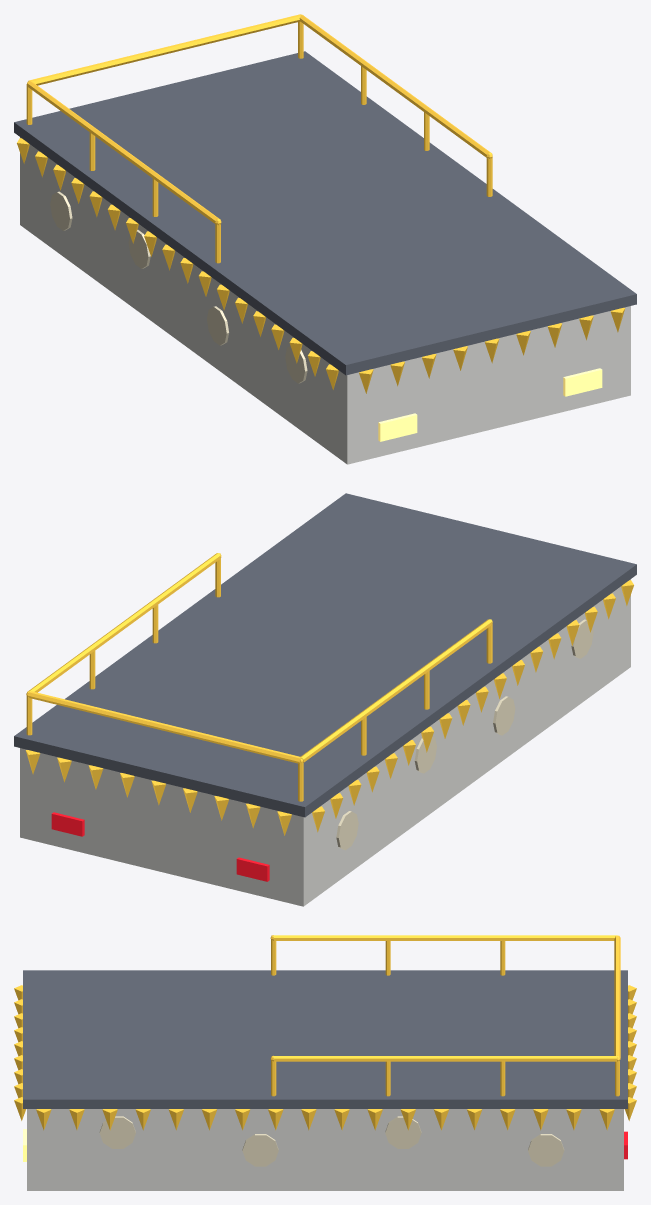
File: parade_float.glb
3 views of the same model, one above another, from view 1: azimuth 30°, elevation 25°; view 2: azimuth 150°, elevation 25°; view 3: azimuth 270°, elevation 25° (orthographic). The views are drawn at different scales.
Parts seen in each view (by area): view 1: deck_car_grey, paint_float_paint, rail_gold, fringe_gold, body_float_dot, lights_lamp; view 2: deck_car_grey, paint_float_paint, rail_gold, fringe_gold, body_float_dot, lights_tail; view 3: deck_car_grey, paint_float_paint, rail_gold, fringe_gold, body_float_dot.
Part boxes in pixels (left/top/right/bottom): deck_car_grey: left=14, top=51, right=636, bottom=375; paint_float_paint: left=20, top=137, right=630, bottom=464; rail_gold: left=26, top=14, right=492, bottom=263; fringe_gold: left=17, top=138, right=625, bottom=393; body_float_dot: left=50, top=191, right=307, bottom=383; lights_lamp: left=378, top=368, right=602, bottom=441; deck_car_grey: left=14, top=493, right=636, bottom=817; paint_float_paint: left=20, top=579, right=630, bottom=906; rail_gold: left=26, top=553, right=492, bottom=801; fringe_gold: left=25, top=580, right=633, bottom=835; body_float_dot: left=336, top=619, right=593, bottom=850; lights_tail: left=51, top=812, right=269, bottom=881; deck_car_grey: left=23, top=970, right=627, bottom=1108; paint_float_paint: left=27, top=1109, right=623, bottom=1190; rail_gold: left=270, top=935, right=620, bottom=1096; fringe_gold: left=14, top=985, right=636, bottom=1130; body_float_dot: left=99, top=1116, right=564, bottom=1166.
Bounding box in the file's own units: 2.5 × 1.12 × 4.8.
